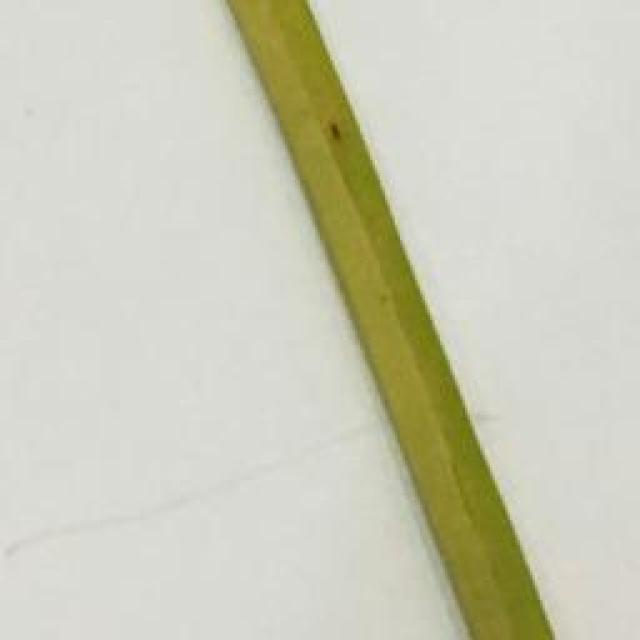Brown_Spot: (321, 112, 340, 144)
